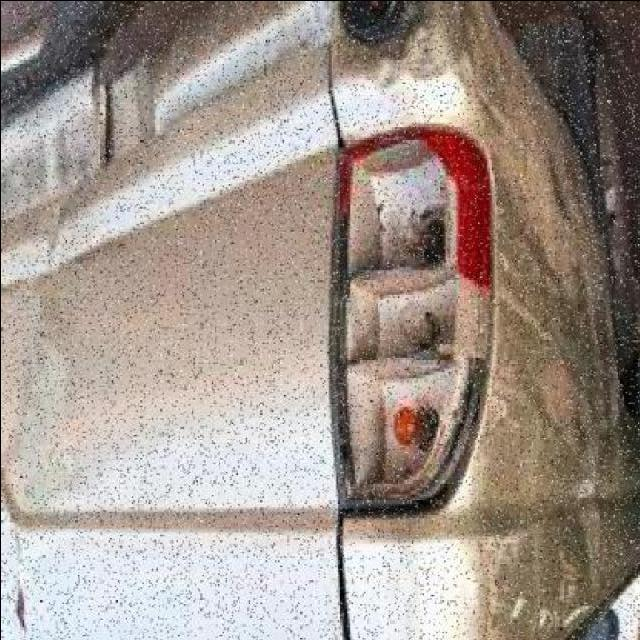Taillight-Damage: (332, 127, 504, 536)
rear-bumper-dent: (113, 3, 489, 119)
